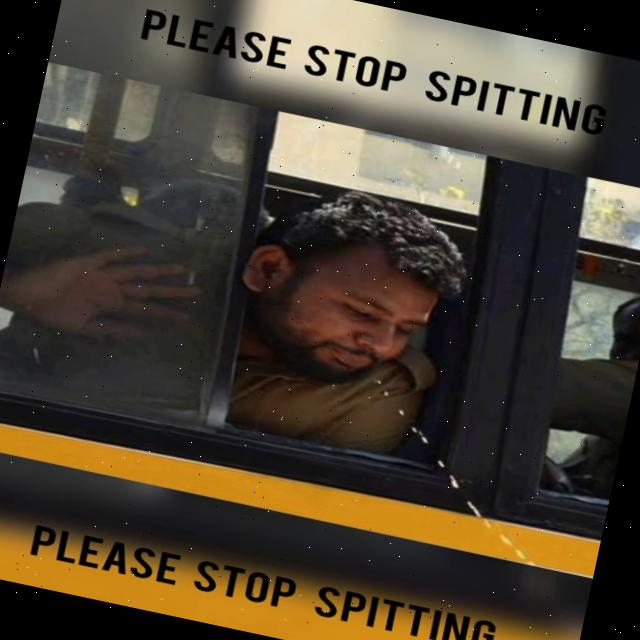spit: (263, 267, 578, 580)
